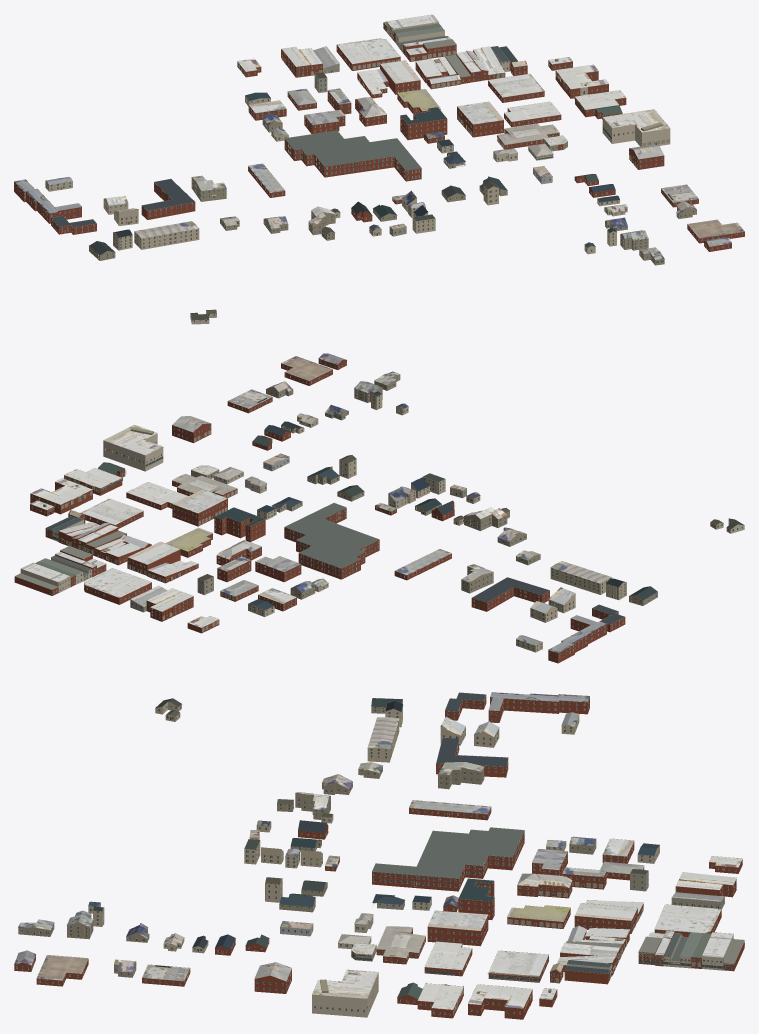
The picture shows the model from 3 angles, top to bottom: view 1: azimuth 30°, elevation 25°; view 2: azimuth 150°, elevation 25°; view 3: azimuth 270°, elevation 25°; orthographic projection. The views are drawn at different scales.
Visible parts, largest first — view 1: -1_0_269019848_1, -1_0_269020722_2, -1_0_451772531_16, -1_0_451772532_17, -1_0_269020755_3, -1_0_599817367_52; view 2: -1_0_269019848_1, -1_0_269020722_2, -1_0_451772531_16, -1_0_451772532_17, -1_0_269020755_3, -1_0_599817367_52; view 3: -1_0_269019848_1, -1_0_269020722_2, -1_0_451772531_16, -1_0_451772532_17, -1_0_269020755_3, -1_0_599817367_52.
Part boxes in pixels (x1,y1,x2,y2): -1_0_269019848_1: (14, 14, 744, 321); -1_0_269020722_2: (14, 23, 744, 265); -1_0_451772531_16: (51, 21, 622, 320); -1_0_451772532_17: (45, 96, 627, 317); -1_0_269020755_3: (190, 22, 670, 324); -1_0_599817367_52: (314, 63, 464, 236); -1_0_269019848_1: (14, 353, 744, 659); -1_0_269020722_2: (14, 359, 657, 663); -1_0_451772531_16: (15, 391, 743, 624); -1_0_451772532_17: (248, 394, 723, 652); -1_0_269020755_3: (20, 433, 744, 593); -1_0_599817367_52: (130, 487, 466, 612); -1_0_269019848_1: (14, 692, 744, 1015); -1_0_269020722_2: (14, 695, 744, 1019); -1_0_451772531_16: (93, 692, 744, 998); -1_0_451772532_17: (88, 707, 659, 953); -1_0_269020755_3: (155, 701, 733, 1017); -1_0_599817367_52: (249, 832, 724, 909).
Bounding box in the file's own units: 537 × 21.77 × 515.
Materials: 23 (1 with a texture image).
